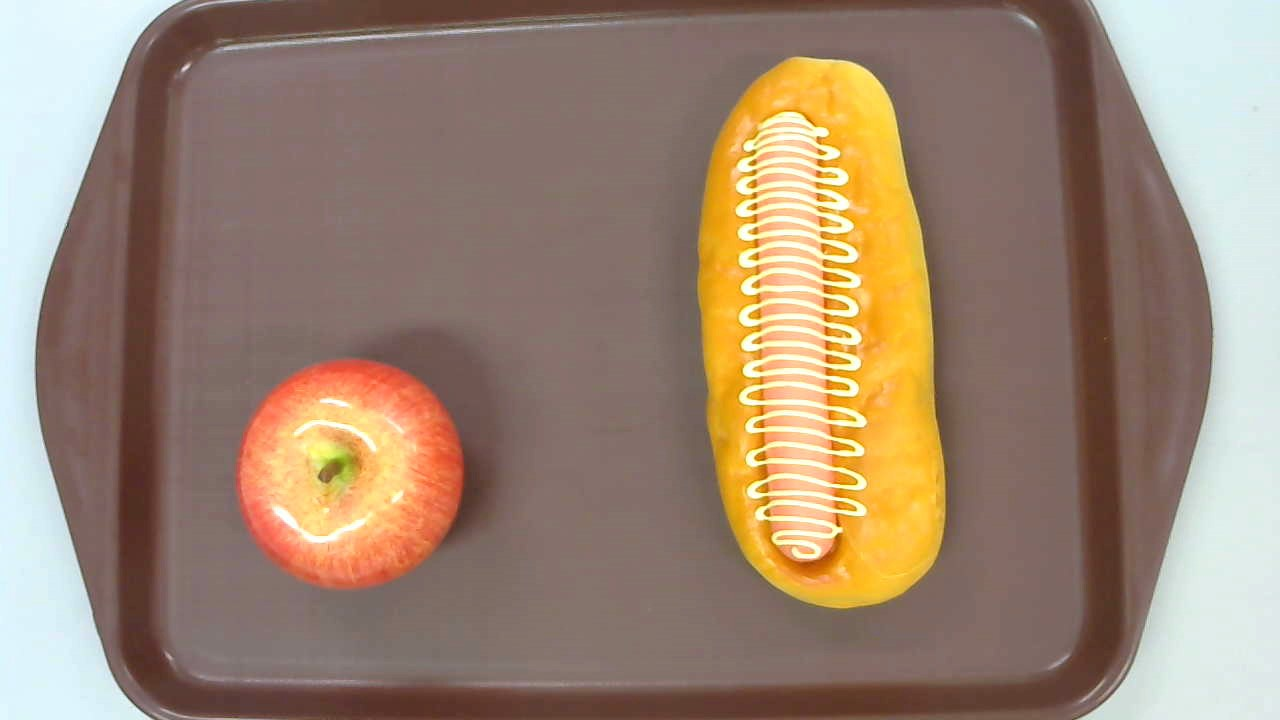hot dog: (695, 57, 946, 608)
red apple: (234, 357, 464, 592)
